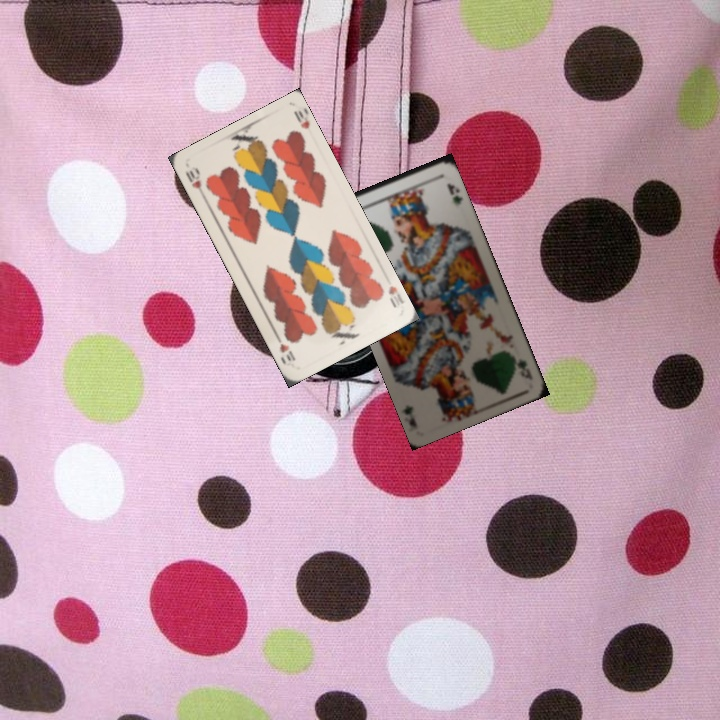GK: (512, 354, 535, 383)
H10: (181, 164, 208, 201), (384, 282, 406, 310)
